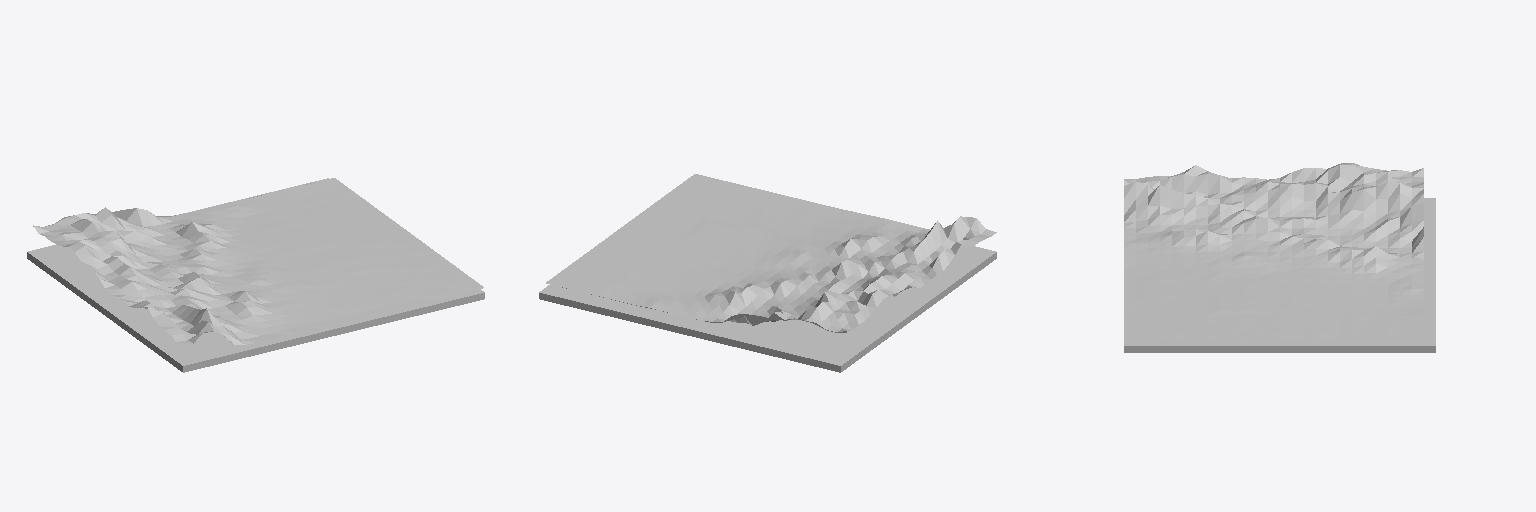
The model's file is JNC_IMG.obj.
3 views of the same model, side by side, from view 1: azimuth 30°, elevation 25°; view 2: azimuth 150°, elevation 25°; view 3: azimuth 270°, elevation 25° (orthographic).
Bounding box in the file's own units: 464 × 67.19 × 416.